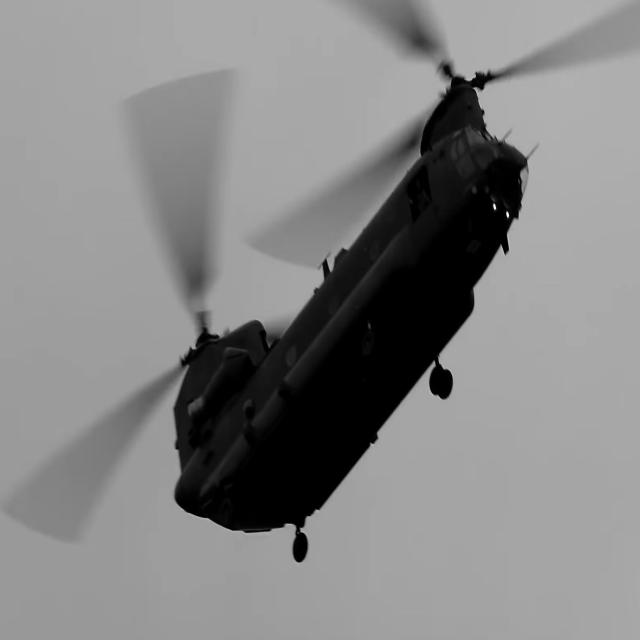Helicopter: (5, 4, 587, 561)
